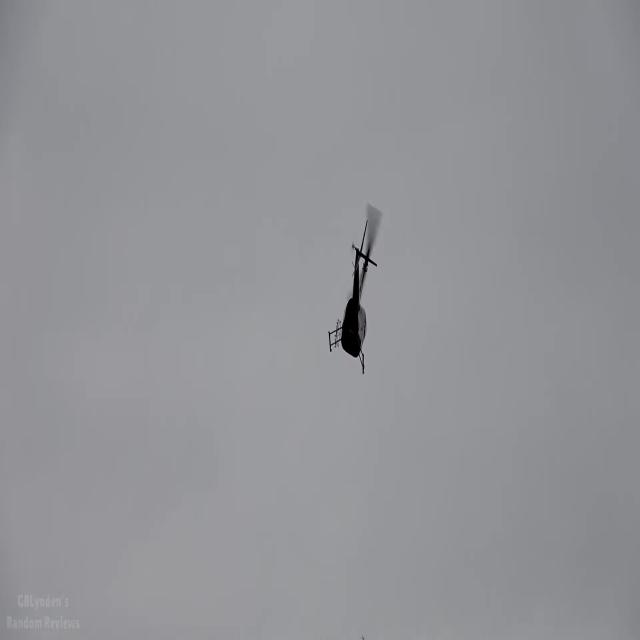CIV_HELO: (327, 219, 378, 376)
